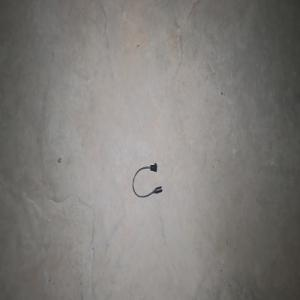Wire: (132, 162, 162, 197)
